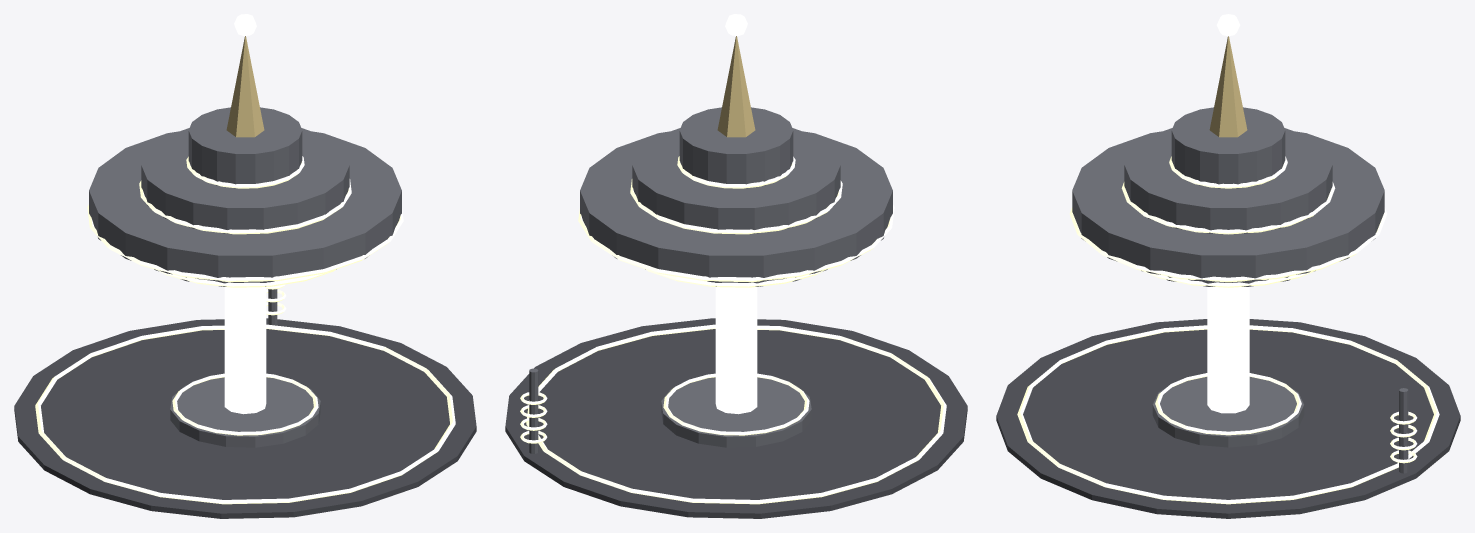
The model's file is zone_low_5_t4.glb.
The picture shows the model from 3 angles, left to right: view 1: azimuth 30°, elevation 25°; view 2: azimuth 150°, elevation 25°; view 3: azimuth 270°, elevation 25°; orthographic projection.
Visible parts, largest first — view 1: zone_low_5_t4, detail; view 2: zone_low_5_t4, detail; view 3: zone_low_5_t4, detail.
Part boxes in pixels (bbox=[...]): zone_low_5_t4: bbox=[14, 36, 476, 518]; detail: bbox=[35, 14, 455, 504]; zone_low_5_t4: bbox=[505, 36, 967, 518]; detail: bbox=[520, 14, 946, 504]; zone_low_5_t4: bbox=[996, 36, 1460, 518]; detail: bbox=[1017, 14, 1439, 504].
Bounding box in the file's own units: 19.6 × 18.94 × 19.6.
